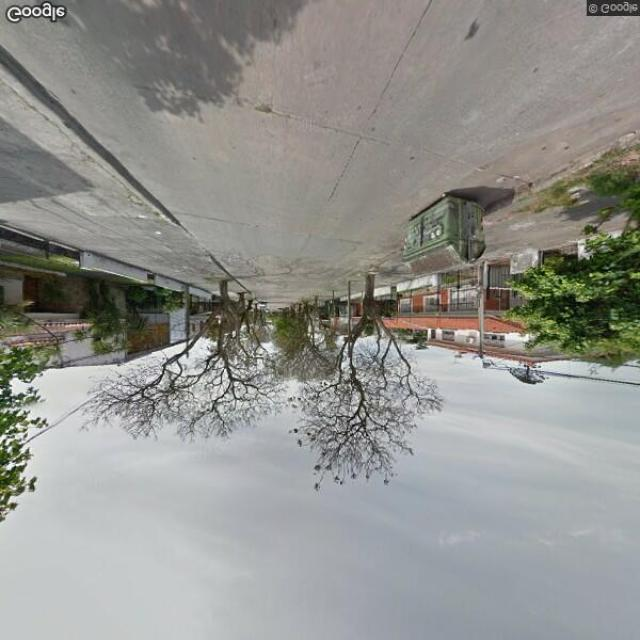garbage container: (398, 180, 497, 285)
